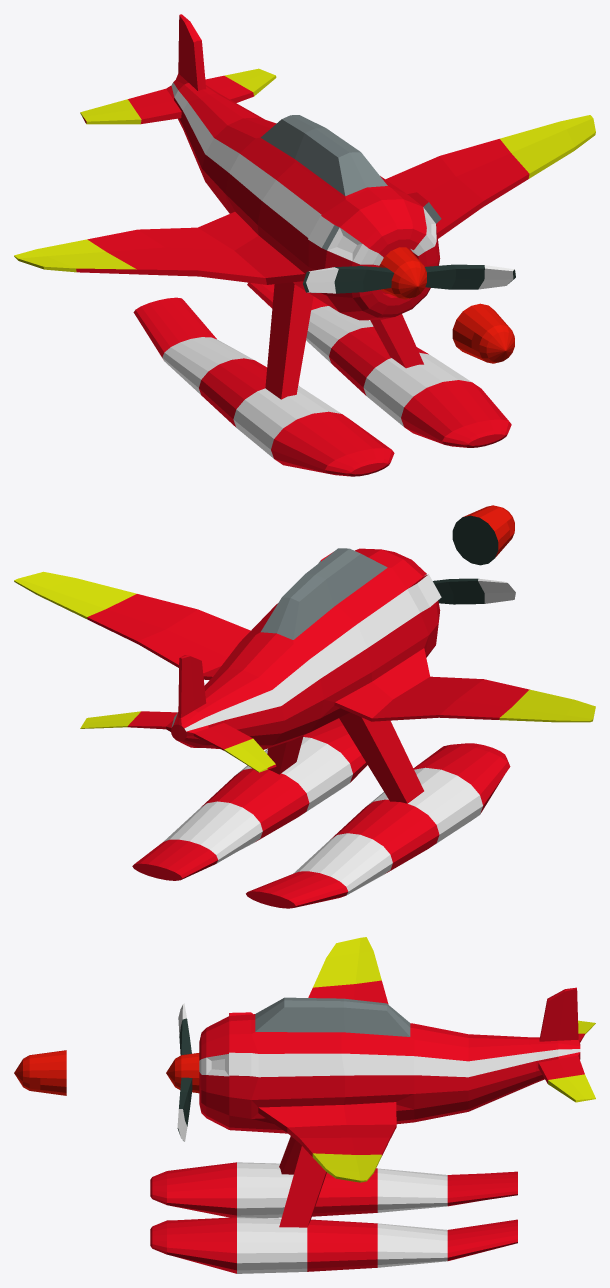
Rendered from aviao2.fbx.
The picture shows the model from 3 angles, top to bottom: view 1: azimuth 30°, elevation 25°; view 2: azimuth 150°, elevation 25°; view 3: azimuth 270°, elevation 25°; orthographic projection. The views are drawn at different scales.
Parts seen in each view (by area): view 1: Aviao.001, Helice, Helice alone; view 2: Aviao.001, Helice alone, Helice; view 3: Aviao.001, Helice, Helice alone.
Boxes of the visible parts, left/top/right/bottom form: Aviao.001: left=14, top=14, right=595, bottom=476; Helice: left=303, top=247, right=515, bottom=299; Helice alone: left=452, top=303, right=514, bottom=363; Aviao.001: left=14, top=548, right=595, bottom=908; Helice alone: left=452, top=505, right=514, bottom=565; Helice: left=433, top=578, right=515, bottom=604; Aviao.001: left=150, top=937, right=595, bottom=1273; Helice: left=166, top=1003, right=199, bottom=1141; Helice alone: left=14, top=1050, right=66, bottom=1095.
Bounding box in the file's own units: 1008 × 487 × 1019.
